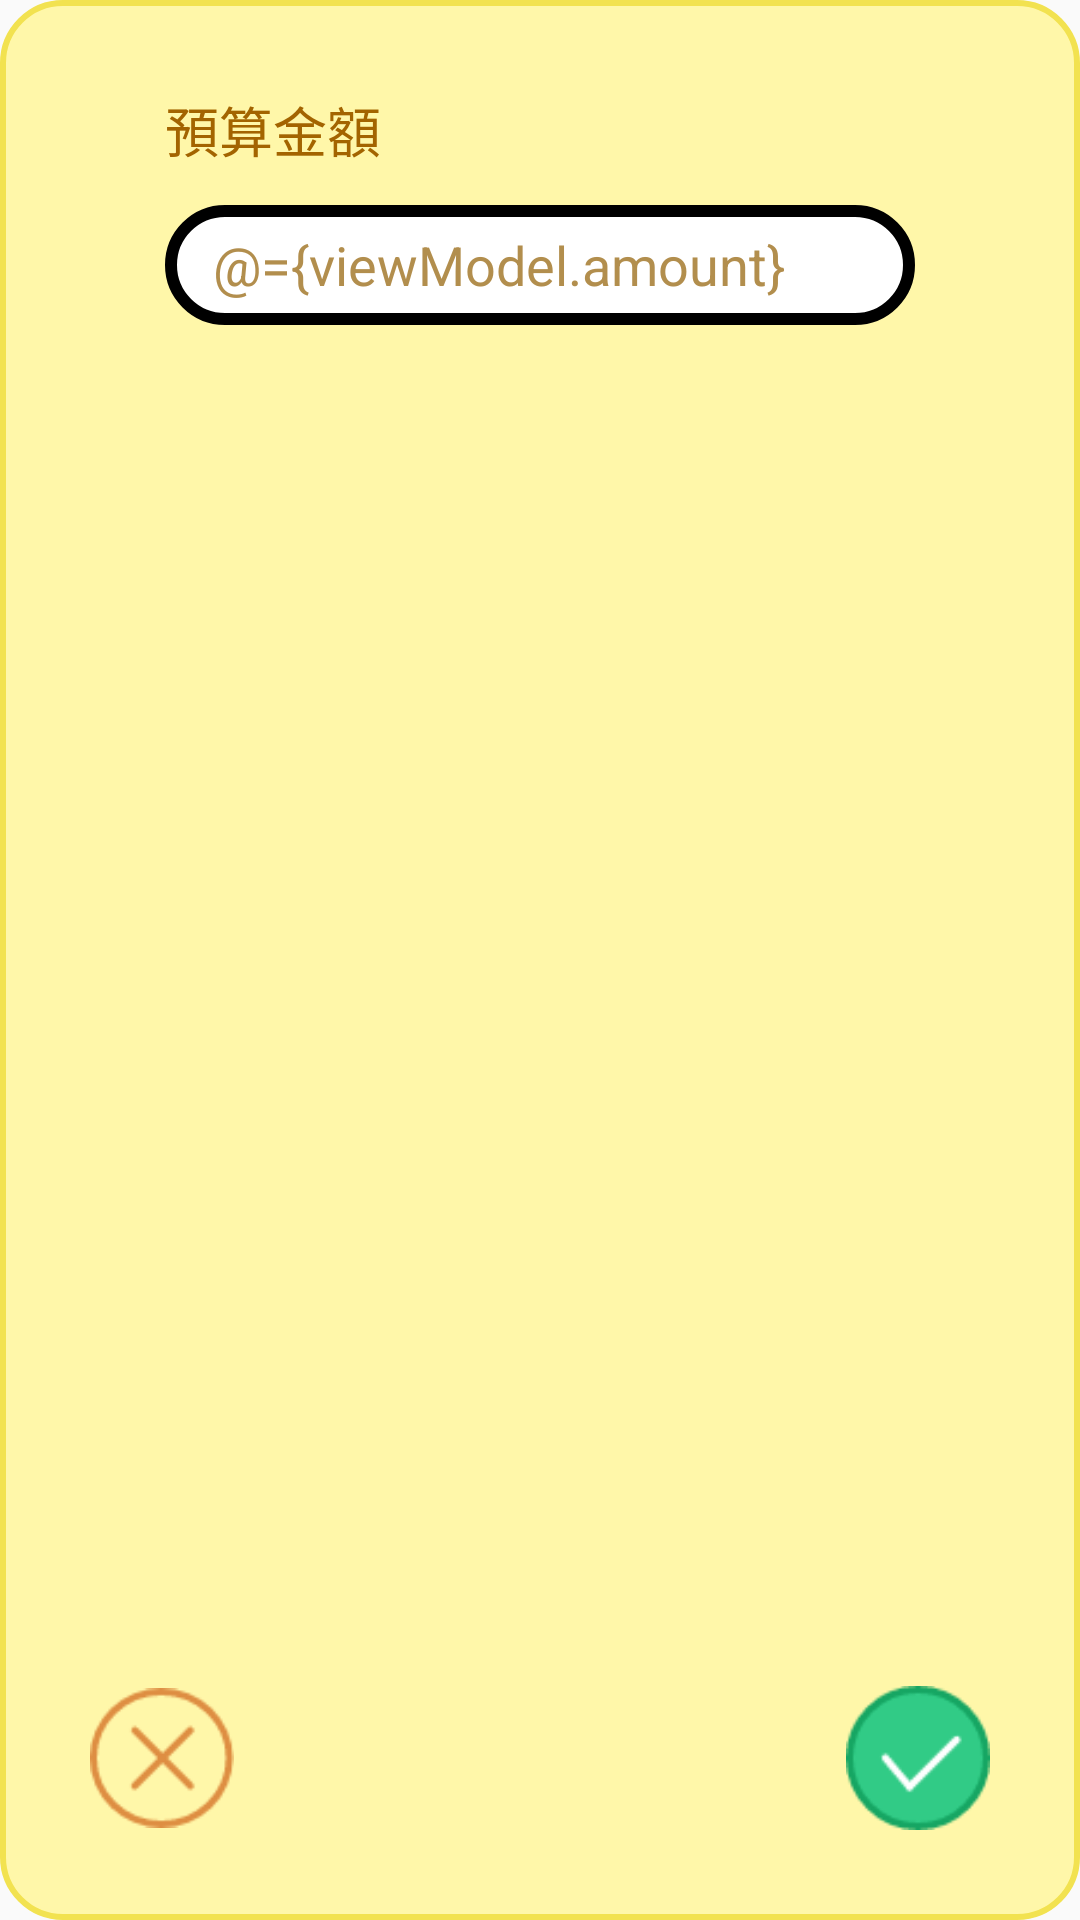

Point at icon controls on the screen. Image size 1080w x 1920h, points as point (x, y).
cancel: point (162, 1758)
yes: point (918, 1758)
